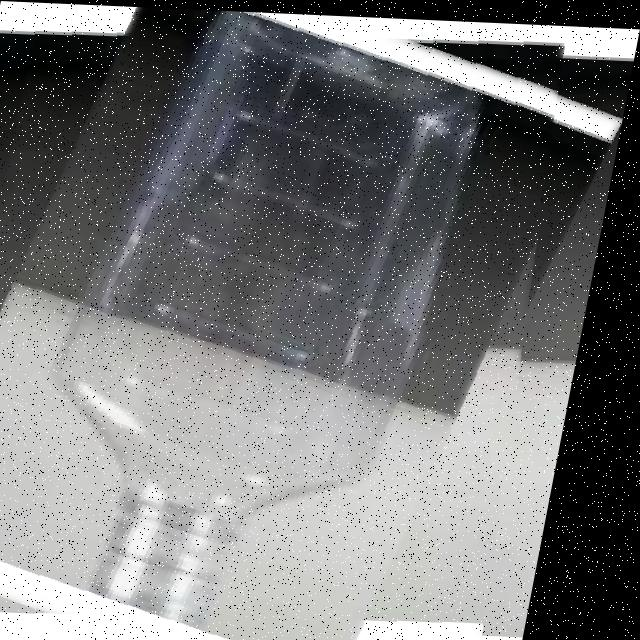litter: (0, 1, 599, 640)
